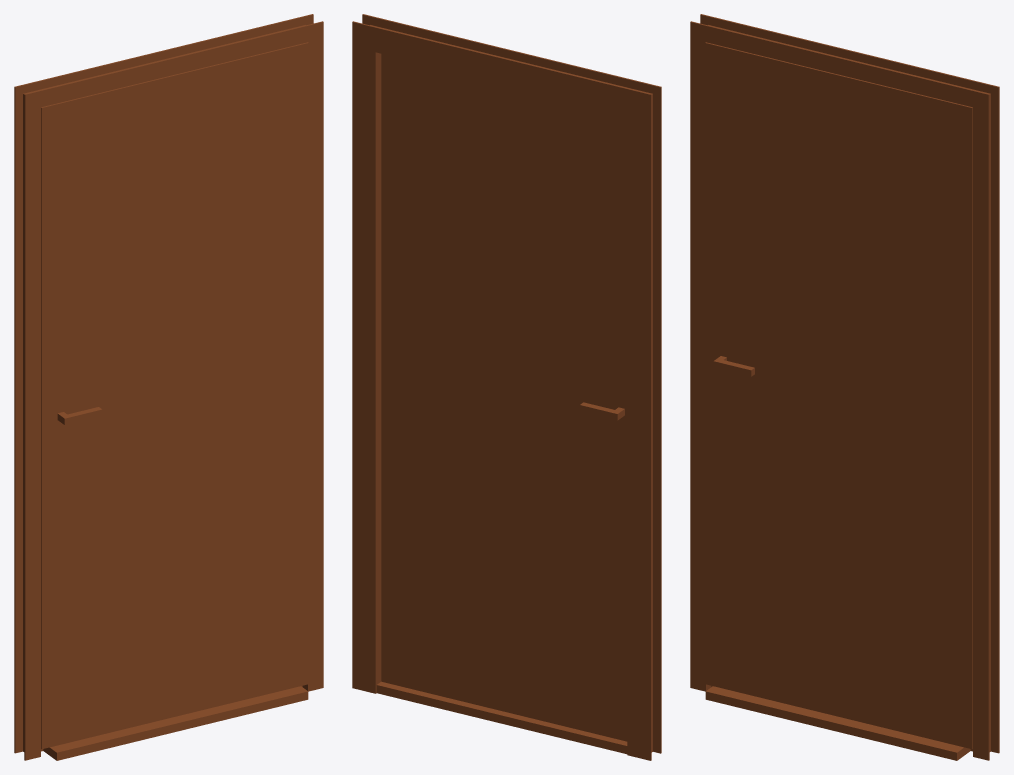
File: 3xuUtrQBT7shhrA3mjVmkT.dae
3 views of the same model, side by side, from view 1: azimuth 30°, elevation 25°; view 2: azimuth 150°, elevation 25°; view 3: azimuth 330°, elevation 25° (orthographic).
Parts seen in each view (by area): view 1: product-fbe1edf5-68b7-47da-baf5-283c2d7f0b9d-body; view 2: product-fbe1edf5-68b7-47da-baf5-283c2d7f0b9d-body; view 3: product-fbe1edf5-68b7-47da-baf5-283c2d7f0b9d-body.
Part boxes in pixels (x1,y1,x2,y2): product-fbe1edf5-68b7-47da-baf5-283c2d7f0b9d-body: (14, 14, 323, 760); product-fbe1edf5-68b7-47da-baf5-283c2d7f0b9d-body: (352, 14, 661, 760); product-fbe1edf5-68b7-47da-baf5-283c2d7f0b9d-body: (690, 14, 999, 760).
Bounding box in the file's own units: 0.95 × 0.115 × 2.03.
